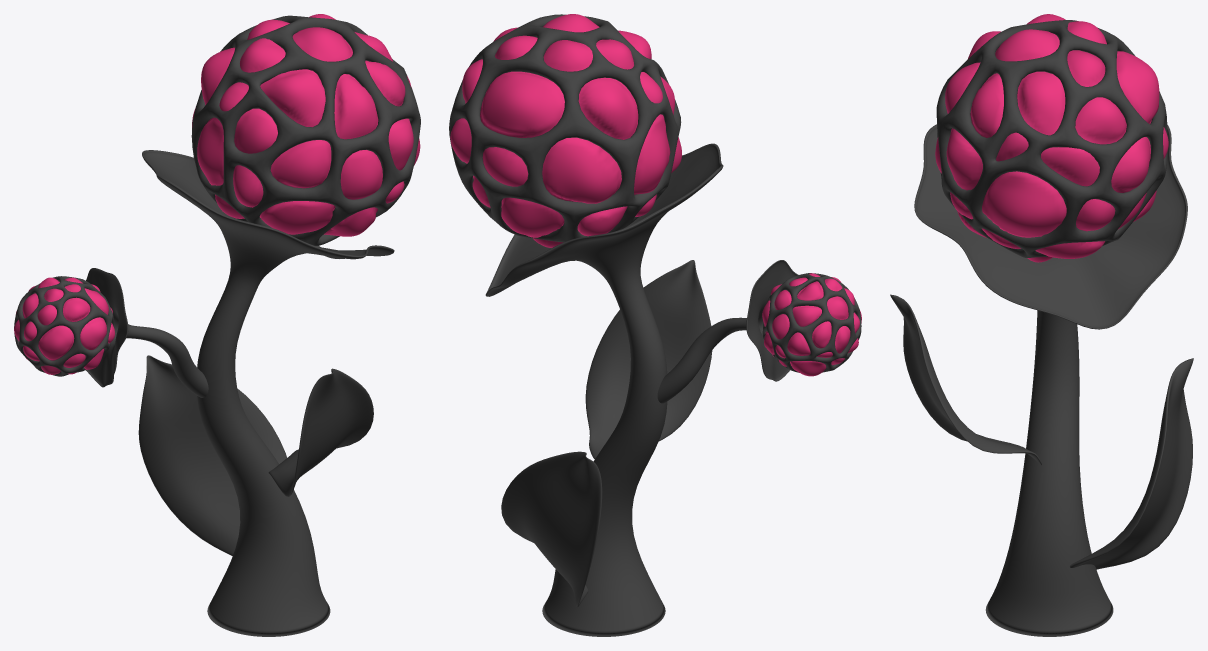
Rendered from MegaPlant#05_fixed.fbx.
3 views of the same model, side by side, from view 1: azimuth 30°, elevation 25°; view 2: azimuth 150°, elevation 25°; view 3: azimuth 270°, elevation 25° (orthographic). The views are drawn at different scales.
Visible parts, largest first — view 1: Cylinder, Roundcube.001, Roundcube, Plane.002, Plane.001, Roundcube.002, Cylinder.001, Roundcube.003; view 2: Cylinder, Roundcube.001, Roundcube, Plane.001, Plane.002, Roundcube.002, Cylinder.001, Roundcube.003; view 3: Cylinder, Roundcube.001, Roundcube, Plane.002, Plane.001.
Part boxes in pixels (x1=…): Cylinder: x1=142, y1=150, x2=394, y2=636; Roundcube.001: x1=192, y1=14, x2=420, y2=236; Roundcube: x1=191, y1=15, x2=420, y2=245; Plane.002: x1=138, y1=355, x2=286, y2=555; Plane.001: x1=268, y1=368, x2=373, y2=496; Roundcube.002: x1=14, y1=277, x2=115, y2=374; Cylinder.001: x1=86, y1=268, x2=208, y2=397; Roundcube.003: x1=14, y1=276, x2=114, y2=376; Cylinder: x1=485, y1=143, x2=723, y2=636; Roundcube.001: x1=450, y1=14, x2=681, y2=247; Roundcube: x1=449, y1=14, x2=681, y2=242; Plane.001: x1=585, y1=260, x2=712, y2=459; Plane.002: x1=501, y1=451, x2=602, y2=607; Roundcube.002: x1=762, y1=273, x2=861, y2=376; Cylinder.001: x1=657, y1=260, x2=798, y2=403; Roundcube.003: x1=762, y1=273, x2=861, y2=372; Cylinder: x1=914, y1=124, x2=1187, y2=636; Roundcube.001: x1=935, y1=14, x2=1168, y2=262; Roundcube: x1=936, y1=20, x2=1167, y2=257; Plane.002: x1=1070, y1=358, x2=1193, y2=569; Plane.001: x1=890, y1=294, x2=1041, y2=465.
Size of the model in its own units: 1552 by 2200 by 1011.
